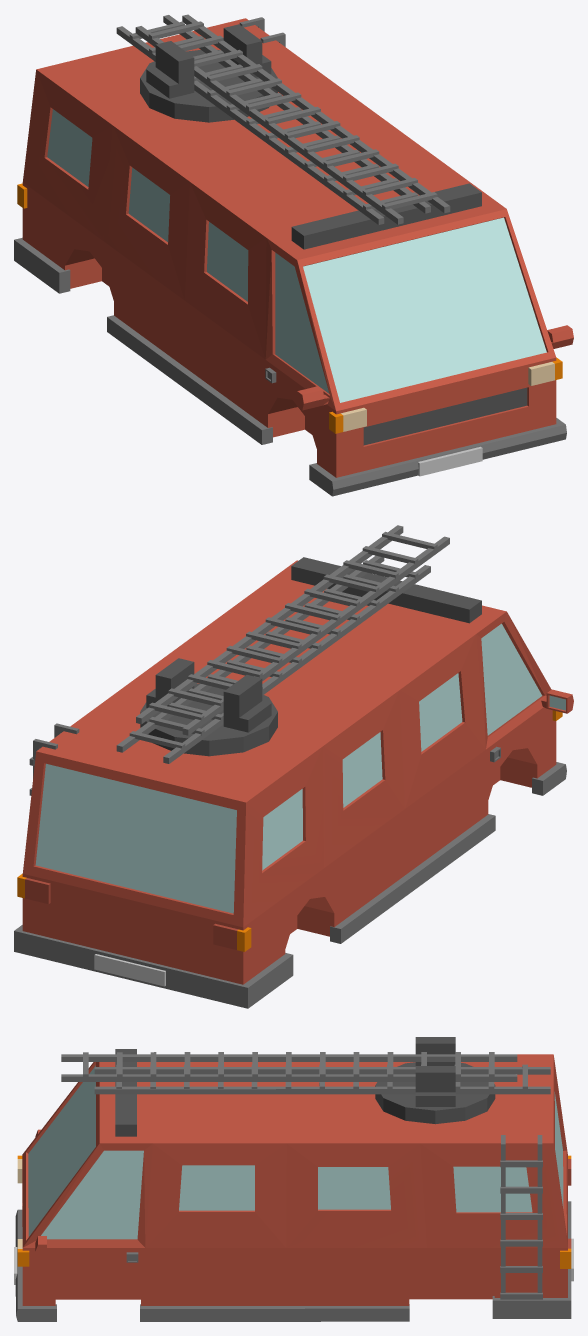
The model's file is Car_14.fbx.
3 renders of one model, top to bottom at view 1: azimuth 30°, elevation 25°; view 2: azimuth 150°, elevation 25°; view 3: azimuth 270°, elevation 25°, orthographic. The views are drawn at different scales.
Parts seen in each view (by area): view 1: Car_14; view 2: Car_14; view 3: Car_14.
Part boxes in pixels (x1,y1,x2,y2): Car_14: (14, 14, 573, 496); Car_14: (14, 525, 573, 1008); Car_14: (14, 1037, 573, 1321).
Bounding box in the file's own units: 213 × 188 × 439.
